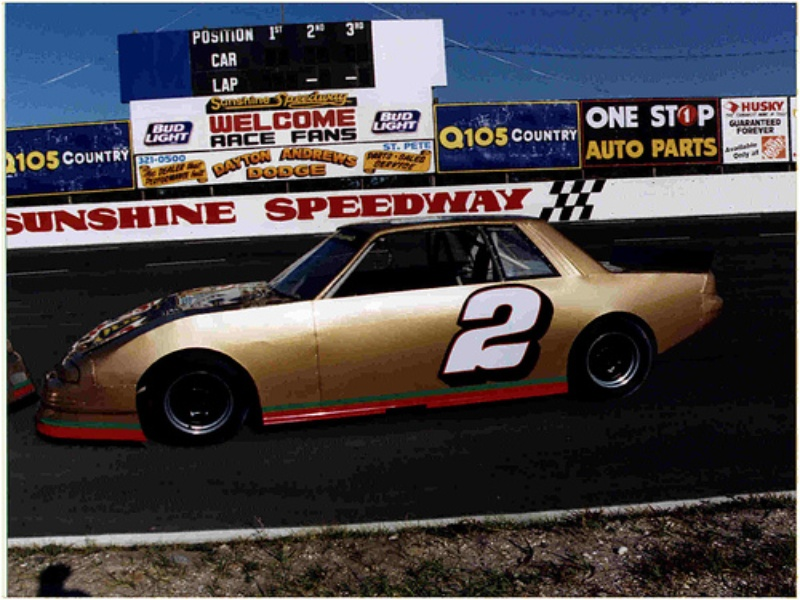car: (38, 215, 724, 442)
